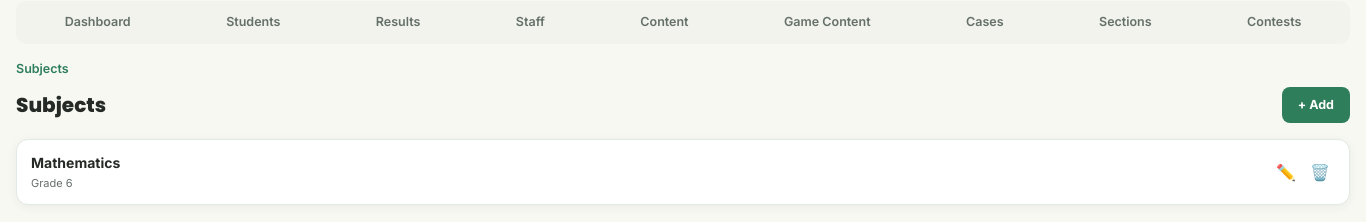
AdminContent › breadcrumbs reflect the drill-down path and navigate back up on click
Click the text "Mathematics".
click(76, 163)  # box [31,154,120,171]
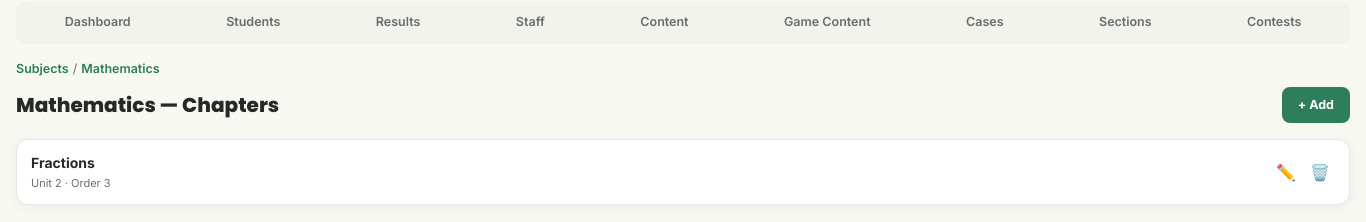
Now the text "Fractions" is shown
Click the text "Fractions".
click(63, 163)  # box [31,154,95,171]
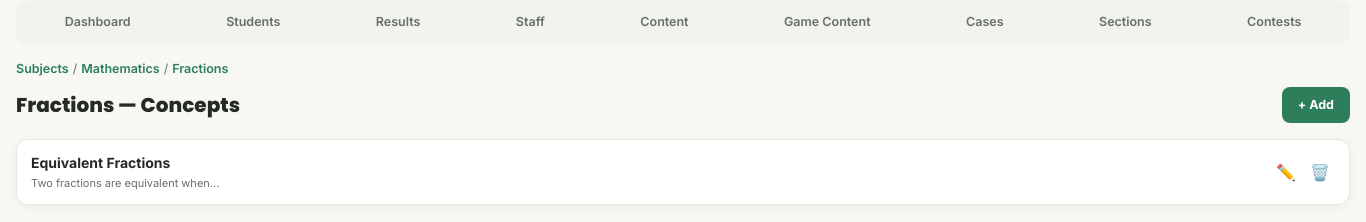
Now the text "Equivalent Fractions" is shown
Click the text "Equivalent Fractions".
click(101, 163)  # box [31,154,170,171]
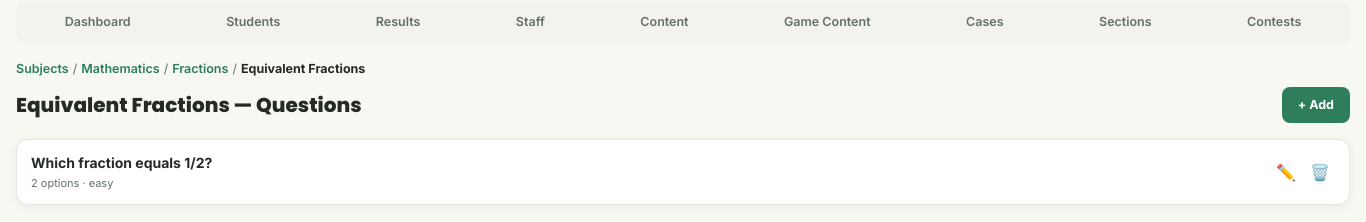
Now the button "Fractions" is shown
Now the text "Which fraction equals 1/2?" is shown, box [31,154,212,171]
Now the text "Equivalent Fractions" is shown, box [241,60,365,79]
Click the button "Fractions".
click(200, 69)  # box [172,60,228,79]
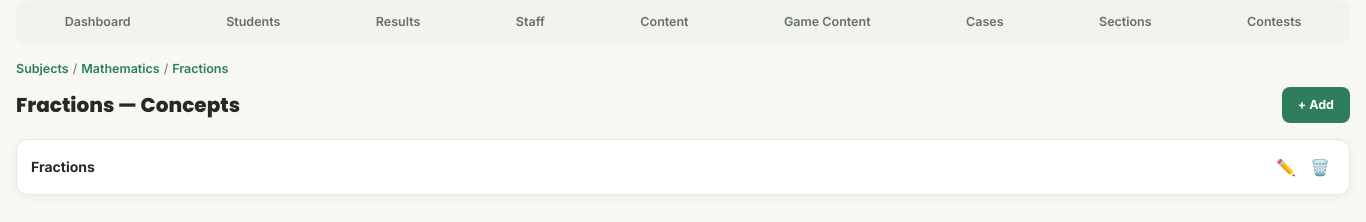
Now the heading "Fractions — Concepts" is shown, box [16,90,240,120]
